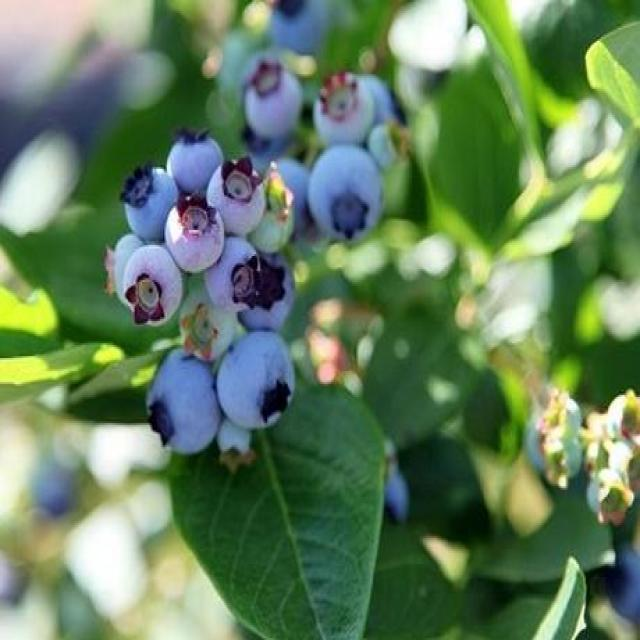BlueBerry - v1: (142, 347, 225, 456), (302, 148, 385, 245), (223, 332, 292, 430), (236, 61, 309, 143), (112, 161, 176, 243), (159, 200, 228, 274), (108, 245, 181, 313), (159, 122, 224, 196), (181, 280, 241, 360), (204, 156, 262, 236), (243, 252, 298, 326), (207, 242, 260, 316), (254, 170, 300, 250), (317, 68, 362, 144), (103, 235, 150, 302), (368, 115, 413, 174)
